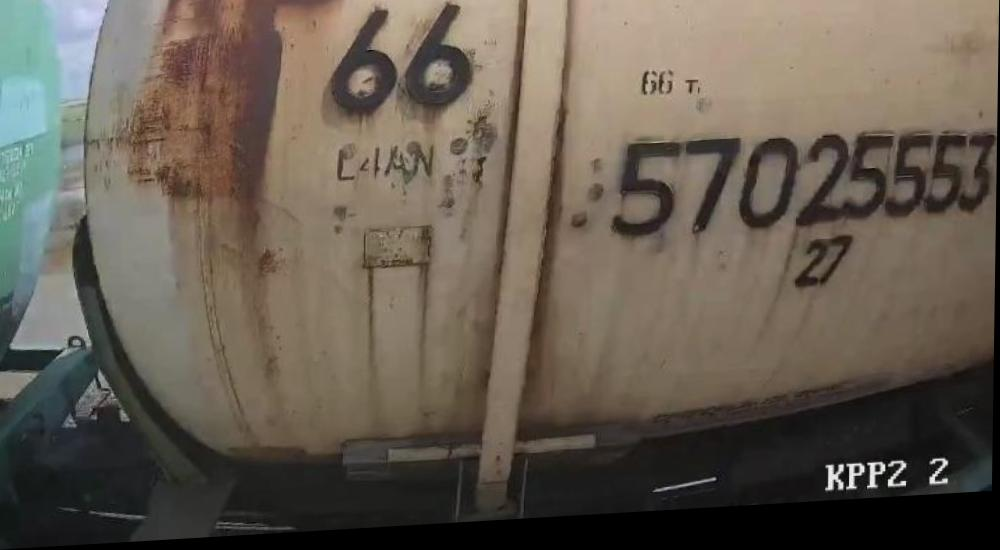Wagon-number: (612, 128, 997, 253)
